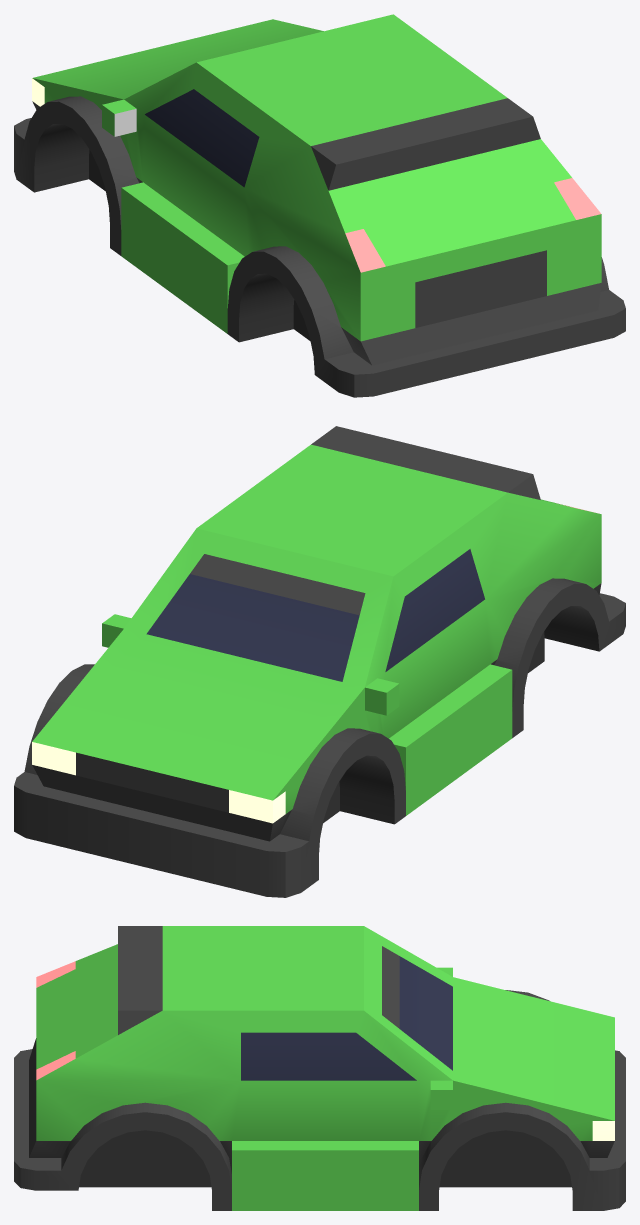
File: SM_Hatchback_Body.fbx
3 views of the same model, one above another, from view 1: azimuth 30°, elevation 25°; view 2: azimuth 150°, elevation 25°; view 3: azimuth 270°, elevation 25° (orthographic). The views are drawn at different scales.
Visible parts, largest first — view 1: SM_Hatchback_Body; view 2: SM_Hatchback_Body; view 3: SM_Hatchback_Body.
Boxes of the visible parts, x1,y1,x2,y2 form: SM_Hatchback_Body: (14, 14, 625, 397); SM_Hatchback_Body: (14, 426, 625, 897); SM_Hatchback_Body: (14, 926, 625, 1210).
Size of the model in its own units: 1.3 by 0.9 by 2.75.
